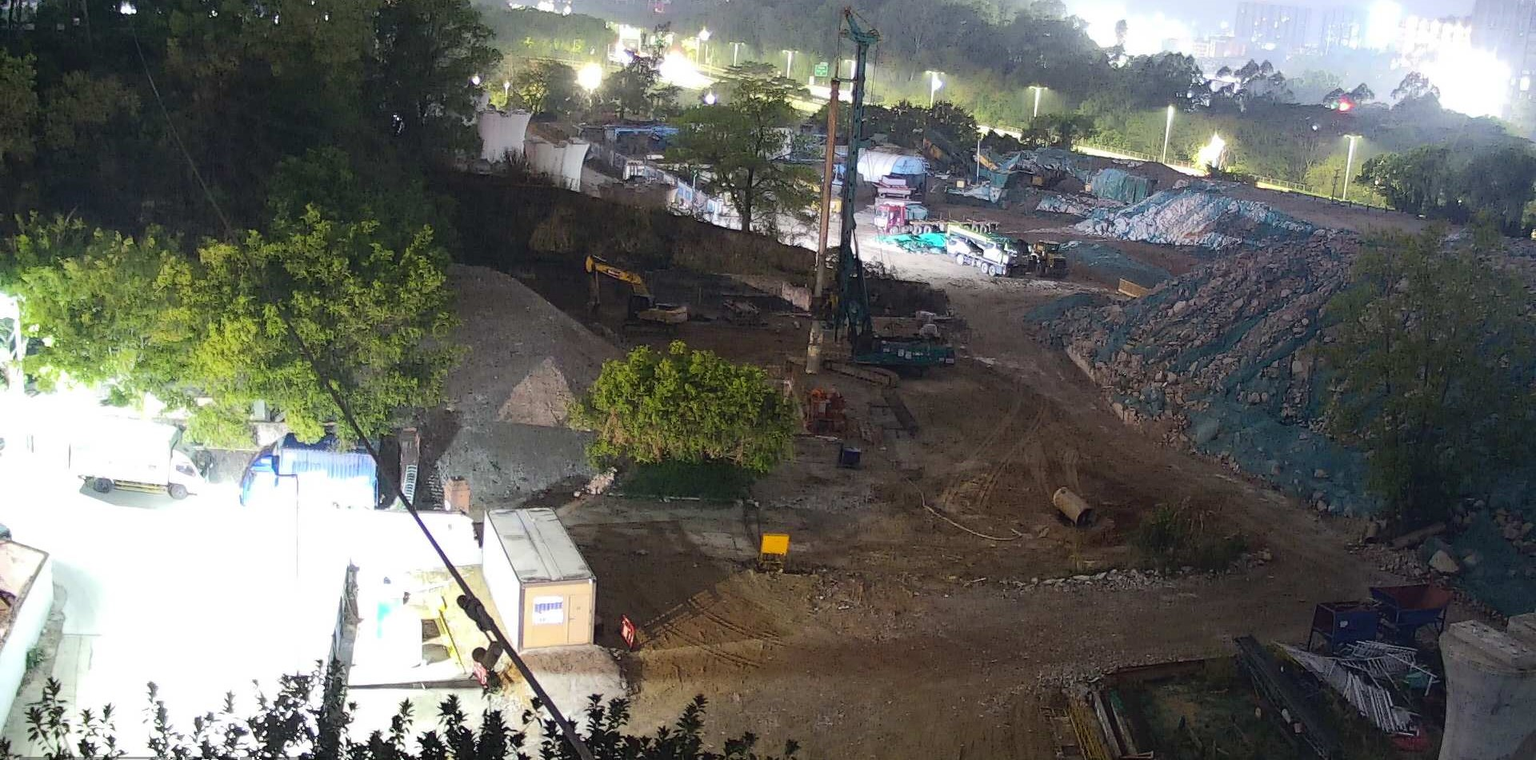过爆灯光: (0, 284, 483, 759), (1360, 0, 1515, 119), (1060, 0, 1197, 68), (658, 49, 714, 90), (607, 24, 649, 67), (1197, 132, 1226, 167), (574, 62, 602, 94), (531, 0, 554, 11), (698, 26, 710, 41), (508, 2, 525, 10), (705, 91, 715, 104), (1519, 78, 1529, 90), (562, 5, 570, 16)
